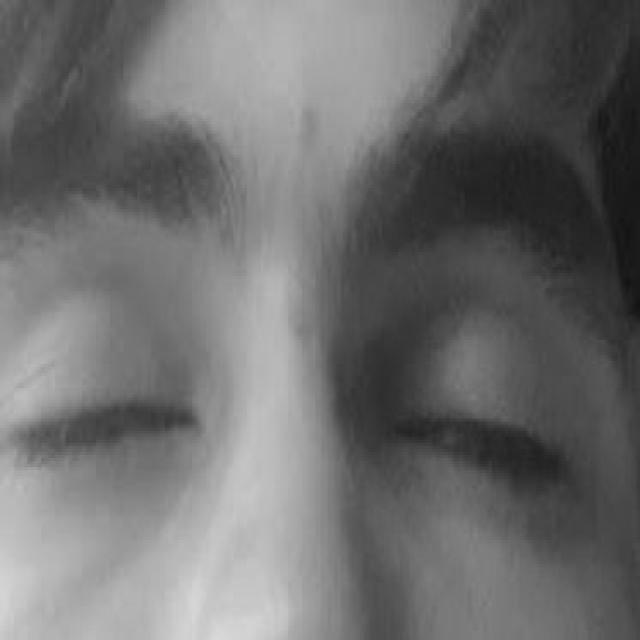real: (2, 230, 606, 563)
